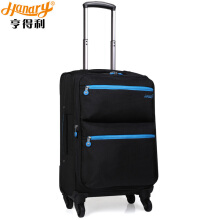luggage: (58, 0, 160, 217)
